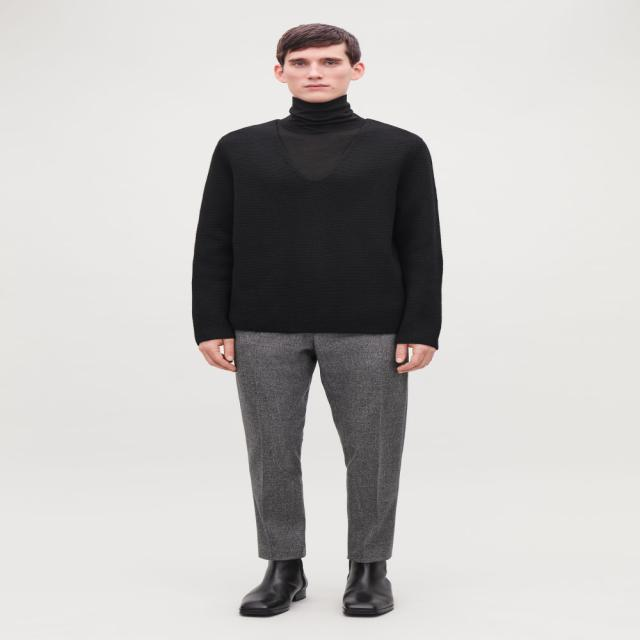mobile_phonerotation: (190, 23, 445, 617)
